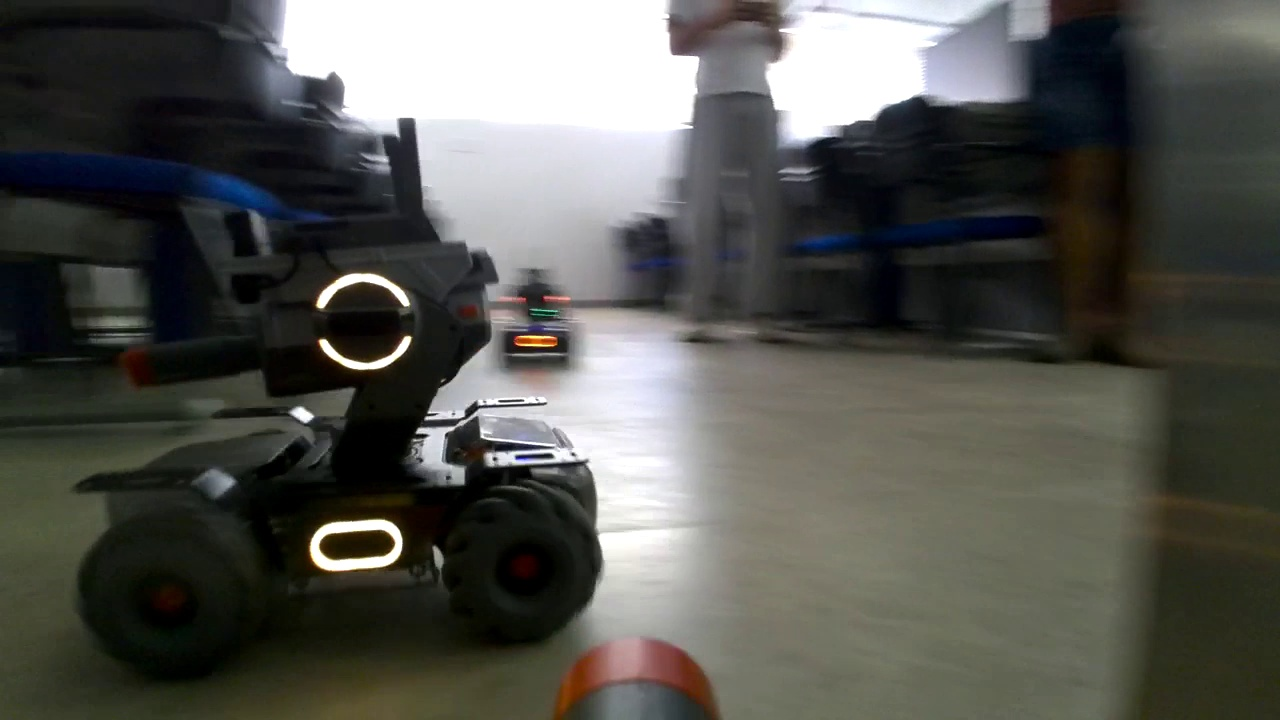robot: (71, 124, 601, 637), (500, 263, 573, 365)
